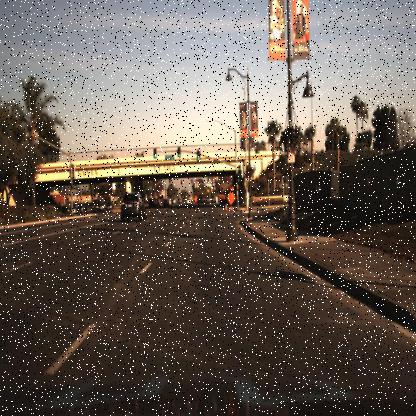car: (119, 191, 146, 227), (93, 194, 106, 216)
trafficLight-Green: (196, 145, 204, 165), (175, 144, 183, 161), (235, 168, 241, 190), (151, 148, 158, 164), (176, 145, 183, 161), (152, 144, 158, 160), (195, 146, 201, 162)
